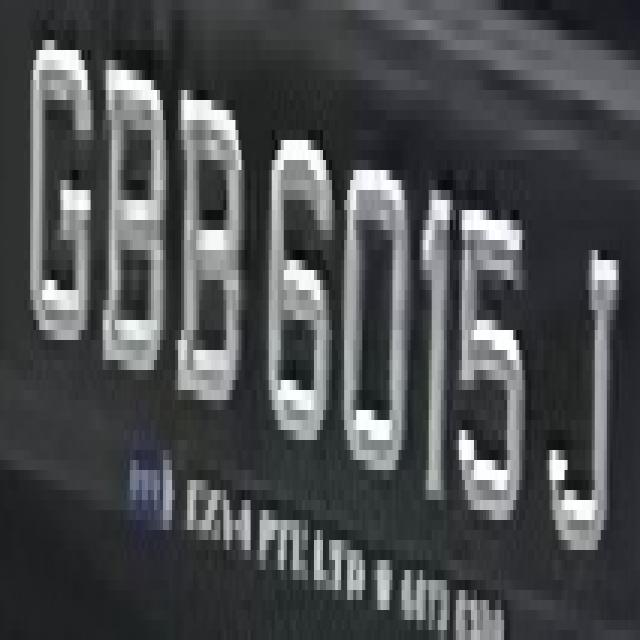0: (329, 110, 408, 520)
1: (417, 110, 452, 560)
5: (453, 130, 525, 550)
6: (266, 100, 338, 460)
B: (163, 60, 245, 450), (97, 20, 172, 390)
G: (21, 0, 94, 350)
J: (537, 190, 619, 550)
